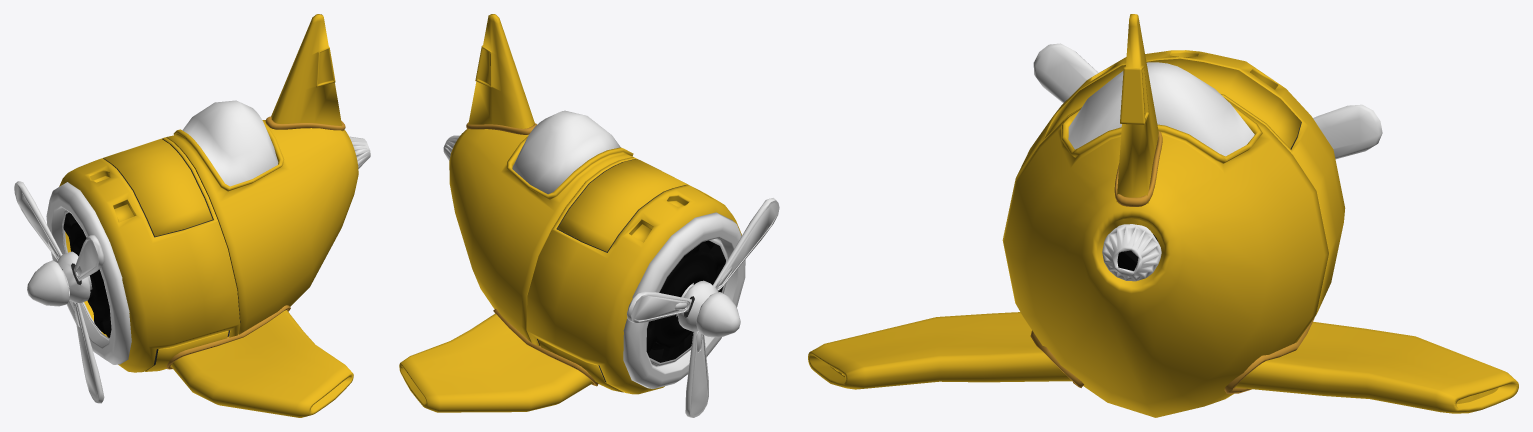
3 renders of one model, left to right at view 1: azimuth 30°, elevation 25°; view 2: azimuth 150°, elevation 25°; view 3: azimuth 270°, elevation 25°, orthographic. The views are drawn at different scales.
Parts seen in each view (by area): view 1: Cylinder, Circle.003, Cylinder.003, Circle, Cylinder.006, Plane.001, Circle.004, Circle.002, Plane.002, Circle.001; view 2: Cylinder, Circle.003, Cylinder.003, Circle, Cylinder.006, Plane.001, Circle.004, Circle.002, Circle.005, Plane.002; view 3: Cylinder, Circle.003, Cylinder.006, Plane.001, Cylinder.003, Circle.001, Circle.002, Plane.002.
Boxes of the visible parts, x1,y1,x2,y2 form: Cylinder: (59,120,358,372); Circle.003: (170,310,353,417); Cylinder.003: (14,181,104,403); Circle: (46,182,131,364); Cylinder.006: (182,100,278,186); Plane.001: (271,14,342,130); Circle.004: (63,212,110,334); Circle.002: (166,305,290,369); Plane.002: (265,116,345,130); Circle.001: (349,136,370,168); Cylinder: (449,129,741,394); Circle.003: (399,313,592,412); Cylinder.003: (627,198,779,417); Circle: (623,212,745,388); Cylinder.006: (512,110,620,194); Plane.001: (467,14,534,129); Circle.004: (646,243,725,360); Circle.002: (493,309,598,386); Circle.005: (648,240,725,362); Plane.002: (466,122,537,134); Cylinder: (1002,50,1345,417); Circle.003: (808,312,1518,413); Cylinder.006: (1068,62,1254,156); Plane.001: (1116,14,1158,203); Cylinder.003: (1033,43,1382,159); Circle.001: (1102,224,1161,281); Circle.002: (1030,318,1314,393); Plane.002: (1114,131,1162,206).
Size of the model in its own units: 250 by 260 by 328.
